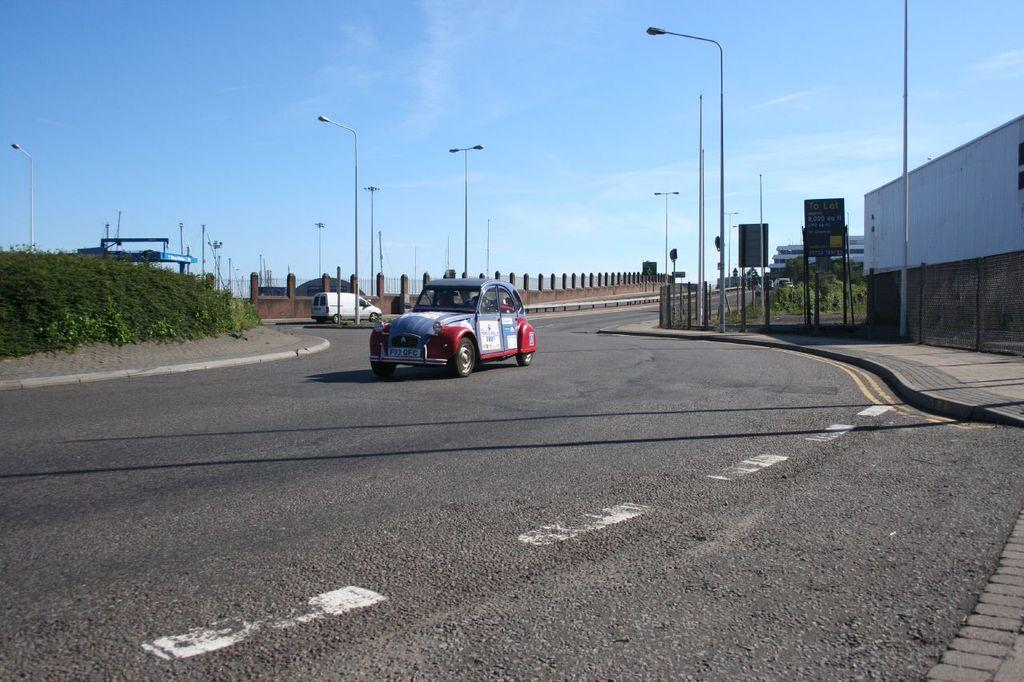Car: (367, 278, 538, 376)
